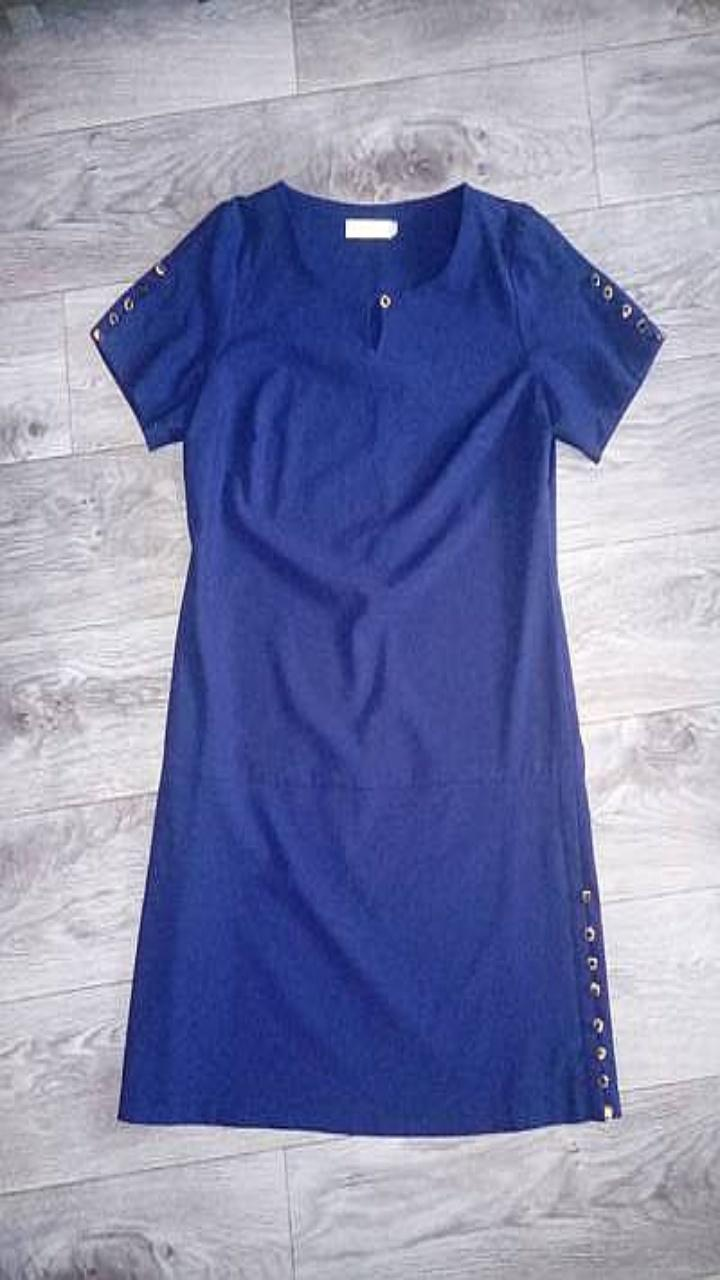Dresses: (92, 181, 663, 1134)
